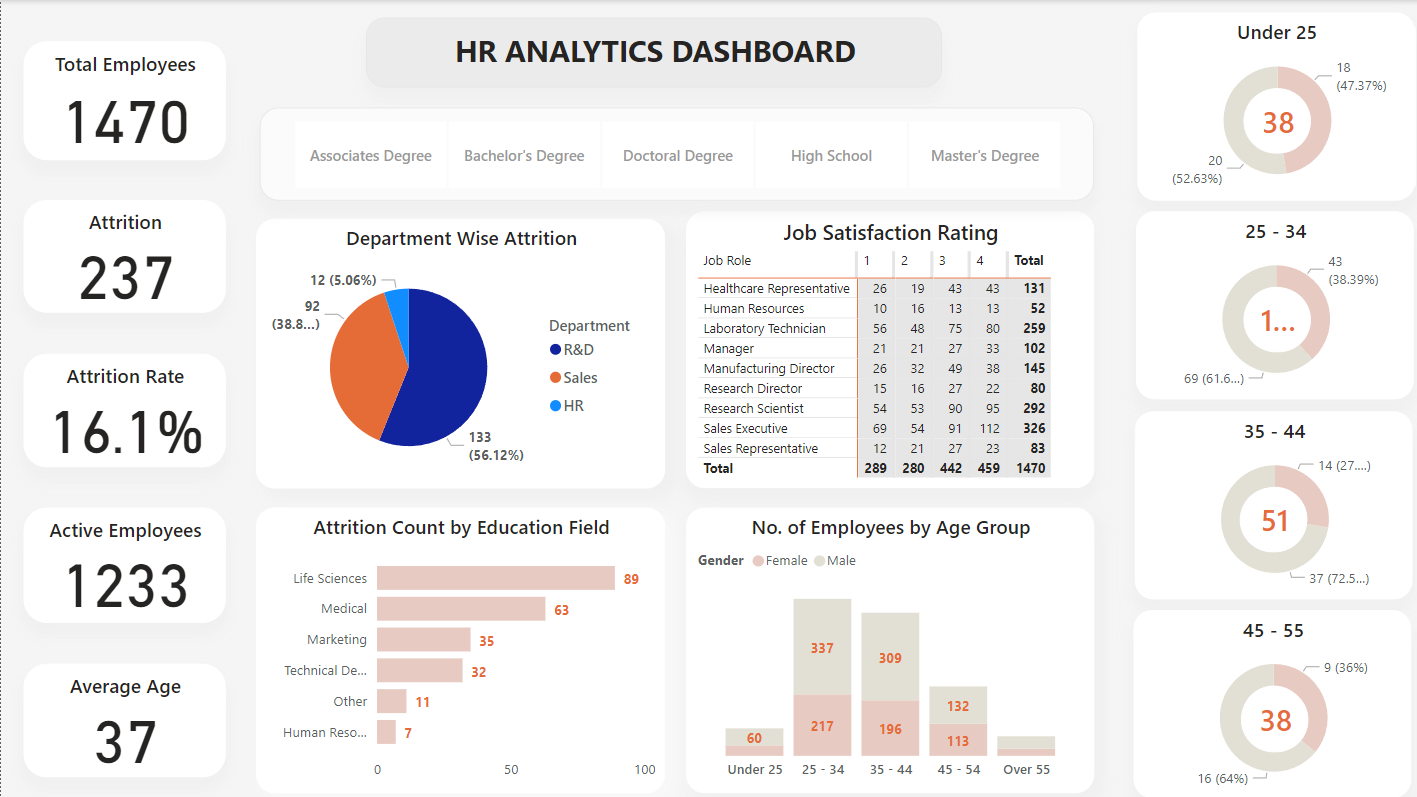

What the dashboard file says about the page in this screenshot:
{"tool":"powerbi","page":{"name":"Page 1","canvas":[1280,720],"ordinal":0},"visuals":[{"type":"card","title":"Total Employees","fields":{"Values":["Sum(HR data.Employee Count)"]},"box":[20.8,36.7,182.1,107.6],"z":0},{"type":"card","title":"Attrition","fields":{"Values":["Sum(HR data.Attrition Count)"]},"box":[20.8,180.6,182.1,101.5],"z":1000},{"type":"card","title":"Attrition Rate","fields":{"Values":["HR data.Attrition Rate"]},"box":[20.8,318.4,182.1,102.7],"z":2000},{"type":"card","title":"Active Employees","fields":{"Values":["HR data.Active employees"]},"box":[20.8,457.5,182.1,103.9],"z":3000},{"type":"card","title":"Average Age","fields":{"Values":["Avg(HR data.Age)"]},"box":[20.8,597.8,182.1,102.7],"z":4000},{"type":"pieChart","title":"Department Wise Attrition","fields":{"Category":["HR data.Department"],"Y":["Sum(HR data.Attrition Count)"]},"box":[229.8,196.8,369.2,243.3],"z":5000},{"type":"columnChart","title":"No. of Employees by Age Group","fields":{"Y":["Sum(HR data.Employee Count)"],"Category":["HR data.CF_age band"],"Series":["HR data.Gender"]},"box":[617.3,457.2,367.9,257.9],"z":6000},{"type":"barChart","title":"Attrition Count by Education Field","fields":{"Category":["HR data.Education Field"],"Y":["Sum(HR data.Attrition Count)"]},"box":[229.8,457.2,369.2,257.9],"z":7000},{"type":"donutChart","title":"Under 25","fields":{"Category":["HR data.Gender"],"Y":["Sum(HR data.Attrition Count)"],"Series":["HR data.CF_age band"]},"box":[1024.4,11,250.6,169.9],"z":8000},{"type":"donutChart","title":"25 - 34","fields":{"Category":["HR data.Gender"],"Y":["Sum(HR data.Attrition Count)"],"Series":["HR data.CF_age band"]},"box":[1023.2,190.7,250.6,169.9],"z":9000},{"type":"donutChart","title":"35 - 44","fields":{"Category":["HR data.Gender"],"Y":["Sum(HR data.Attrition Count)"],"Series":["HR data.CF_age band"]},"box":[1021.9,370.4,250.6,169.9],"z":10000},{"type":"donutChart","title":"45 - 55","fields":{"Category":["HR data.Gender"],"Y":["Sum(HR data.Attrition Count)"],"Series":["HR data.CF_age band"]},"box":[1020.7,550.1,250.6,169.9],"z":11000},{"type":"pivotTable","title":"Job Satisfaction Rating","fields":{"Rows":["HR data.Job Role"],"Columns":["HR data.Job Satisfaction"],"Values":["Sum(HR data.Employee Count)"]},"box":[617.3,190.7,367.9,249.4],"z":12000},{"type":"textbox","box":[328.8,15.9,519.5,63.6],"z":13000},{"type":"slicer","fields":{"Values":["HR data.Education"]},"box":[233.5,96.6,751.8,84.3],"z":14000},{"type":"card","fields":{"Values":["Sum(HR data.Attrition Count)"]},"box":[1119.7,79.5,61.1,58.7],"z":15000},{"type":"card","fields":{"Values":["Sum(HR data.Attrition Count)"]},"box":[1119.7,259.6,61.1,58.7],"z":15001},{"type":"card","fields":{"Values":["Sum(HR data.Attrition Count)"]},"box":[1116.1,439.7,61.1,58.7],"z":15002},{"type":"card","fields":{"Values":["Sum(HR data.Attrition Count)"]},"box":[1117.3,619.8,61.1,58.7],"z":15003}]}

Visuals, with their boxes in screenshot pixels (x1, y1, x2, y2), scaled from the page's 1280x720 canvas onto the 1417x797 screenshot:
"Total Employees" card: {"x1": 23, "y1": 41, "x2": 225, "y2": 160}
"Attrition" card: {"x1": 23, "y1": 200, "x2": 225, "y2": 312}
"Attrition Rate" card: {"x1": 23, "y1": 352, "x2": 225, "y2": 466}
"Active Employees" card: {"x1": 23, "y1": 506, "x2": 225, "y2": 621}
"Average Age" card: {"x1": 23, "y1": 662, "x2": 225, "y2": 775}
"Department Wise Attrition" pieChart: {"x1": 254, "y1": 218, "x2": 663, "y2": 487}
"No. of Employees by Age Group" columnChart: {"x1": 683, "y1": 506, "x2": 1091, "y2": 792}
"Attrition Count by Education Field" barChart: {"x1": 254, "y1": 506, "x2": 663, "y2": 792}
"Under 25" donutChart: {"x1": 1134, "y1": 12, "x2": 1411, "y2": 200}
"25 - 34" donutChart: {"x1": 1133, "y1": 211, "x2": 1410, "y2": 399}
"35 - 44" donutChart: {"x1": 1131, "y1": 410, "x2": 1409, "y2": 598}
"45 - 55" donutChart: {"x1": 1130, "y1": 609, "x2": 1407, "y2": 796}
"Job Satisfaction Rating" pivotTable: {"x1": 683, "y1": 211, "x2": 1091, "y2": 487}
textbox: {"x1": 364, "y1": 18, "x2": 939, "y2": 88}
slicer - HR data.Education: {"x1": 258, "y1": 107, "x2": 1091, "y2": 200}
card - Sum(HR data.Attrition Count): {"x1": 1240, "y1": 88, "x2": 1307, "y2": 153}
card - Sum(HR data.Attrition Count): {"x1": 1240, "y1": 287, "x2": 1307, "y2": 352}
card - Sum(HR data.Attrition Count): {"x1": 1236, "y1": 487, "x2": 1303, "y2": 552}
card - Sum(HR data.Attrition Count): {"x1": 1237, "y1": 686, "x2": 1305, "y2": 751}
